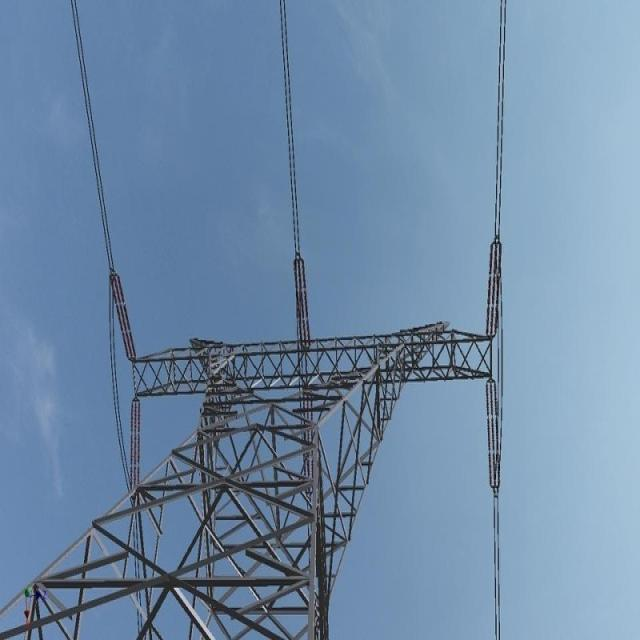non-critical vegetation: (30, 265, 492, 623)
